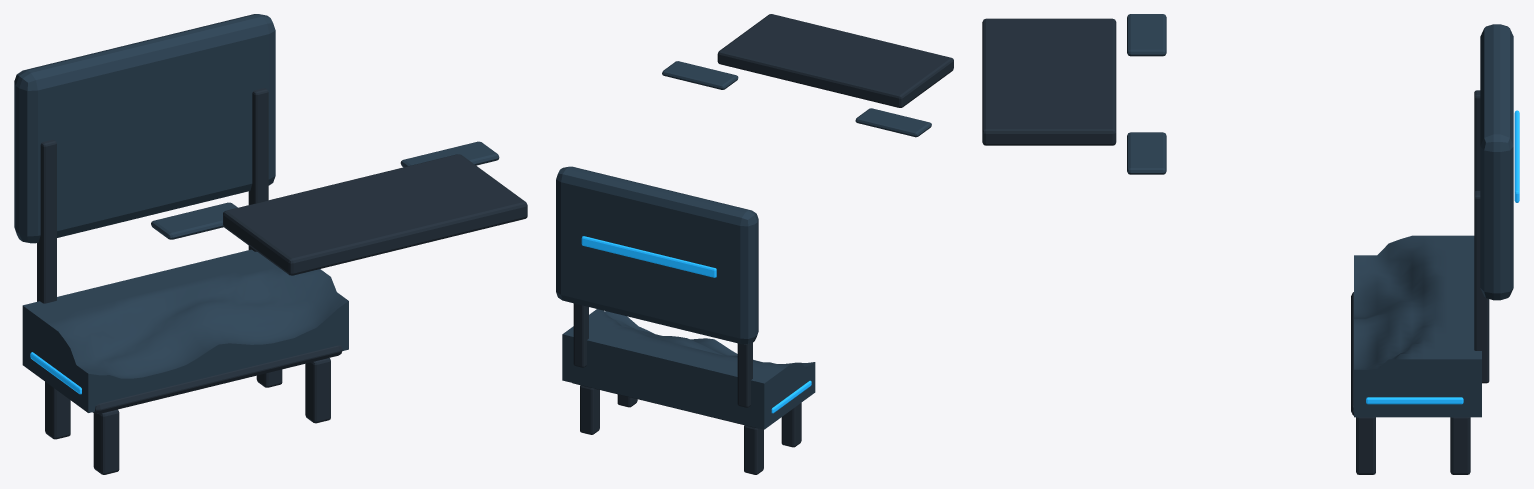
Rendered from debugych_chair.glb.
3 renders of one model, left to right at view 1: azimuth 30°, elevation 25°; view 2: azimuth 150°, elevation 25°; view 3: azimuth 270°, elevation 25°, orthographic. The views are drawn at different scales.
Parts seen in each view (by area): view 1: ChairBack, ChairSeat, LaptopRiser, ChairBackPost, ChairSeatFrame, ChairBackPost.001, ForearmRest_Right, ChairLeg, ChairLeg.002, ChairLeg.001, ForearmRest_Left; view 2: ChairBack, ChairSeat, LaptopRiser, ChairBackAccent, ForearmRest_Left, ForearmRest_Right, ChairBackPost, ChairBackPost.001, ChairLeg.001, ChairLeg.003, ChairLeg; view 3: ChairSeat, LaptopRiser, ChairBack, ChairBackPost.001, ForearmRest_Right, ForearmRest_Left, ChairLeg.003, ChairLeg.002, ChairSeatAccent.001, ChairBackPost.
Part boxes in pixels (x1,y1,x2,y2): ChairBack: (14,14,275,243); ChairSeat: (22,249,348,412); LaptopRiser: (223,154,527,275); ChairBackPost: (37,139,56,303); ChairSeatFrame: (92,345,342,413); ChairBackPost.001: (248,88,268,251); ForearmRest_Right: (151,202,237,239); ChairLeg: (93,409,119,474); ChairLeg.002: (305,358,330,423); ChairLeg.001: (45,382,70,439); ForearmRest_Left: (400,141,499,167); ChairBack: (556,166,758,344); ChairSeat: (562,309,815,429); LaptopRiser: (717,14,953,107); ChairBackAccent: (581,236,716,277); ForearmRest_Left: (662,61,738,89); ForearmRest_Right: (855,108,931,137); ChairBackPost: (737,343,752,407); ChairBackPost.001: (573,303,588,367); ChairLeg.001: (744,425,763,474); ChairLeg.003: (580,385,599,434); ChairLeg: (781,403,801,447); ChairSeat: (1354,235,1481,417); LaptopRiser: (982,18,1116,145); ChairBack: (1480,24,1513,300); ChairBackPost.001: (1474,190,1489,383); ForearmRest_Right: (1127,14,1166,56); ForearmRest_Left: (1127,132,1166,174); ChairLeg.003: (1450,417,1470,474); ChairLeg.002: (1356,417,1375,474); ChairSeatAccent.001: (1366,397,1463,404); ChairBackPost: (1474,90,1480,191).
Size of the model in its own units: 0.61 by 0.63 by 0.882.
